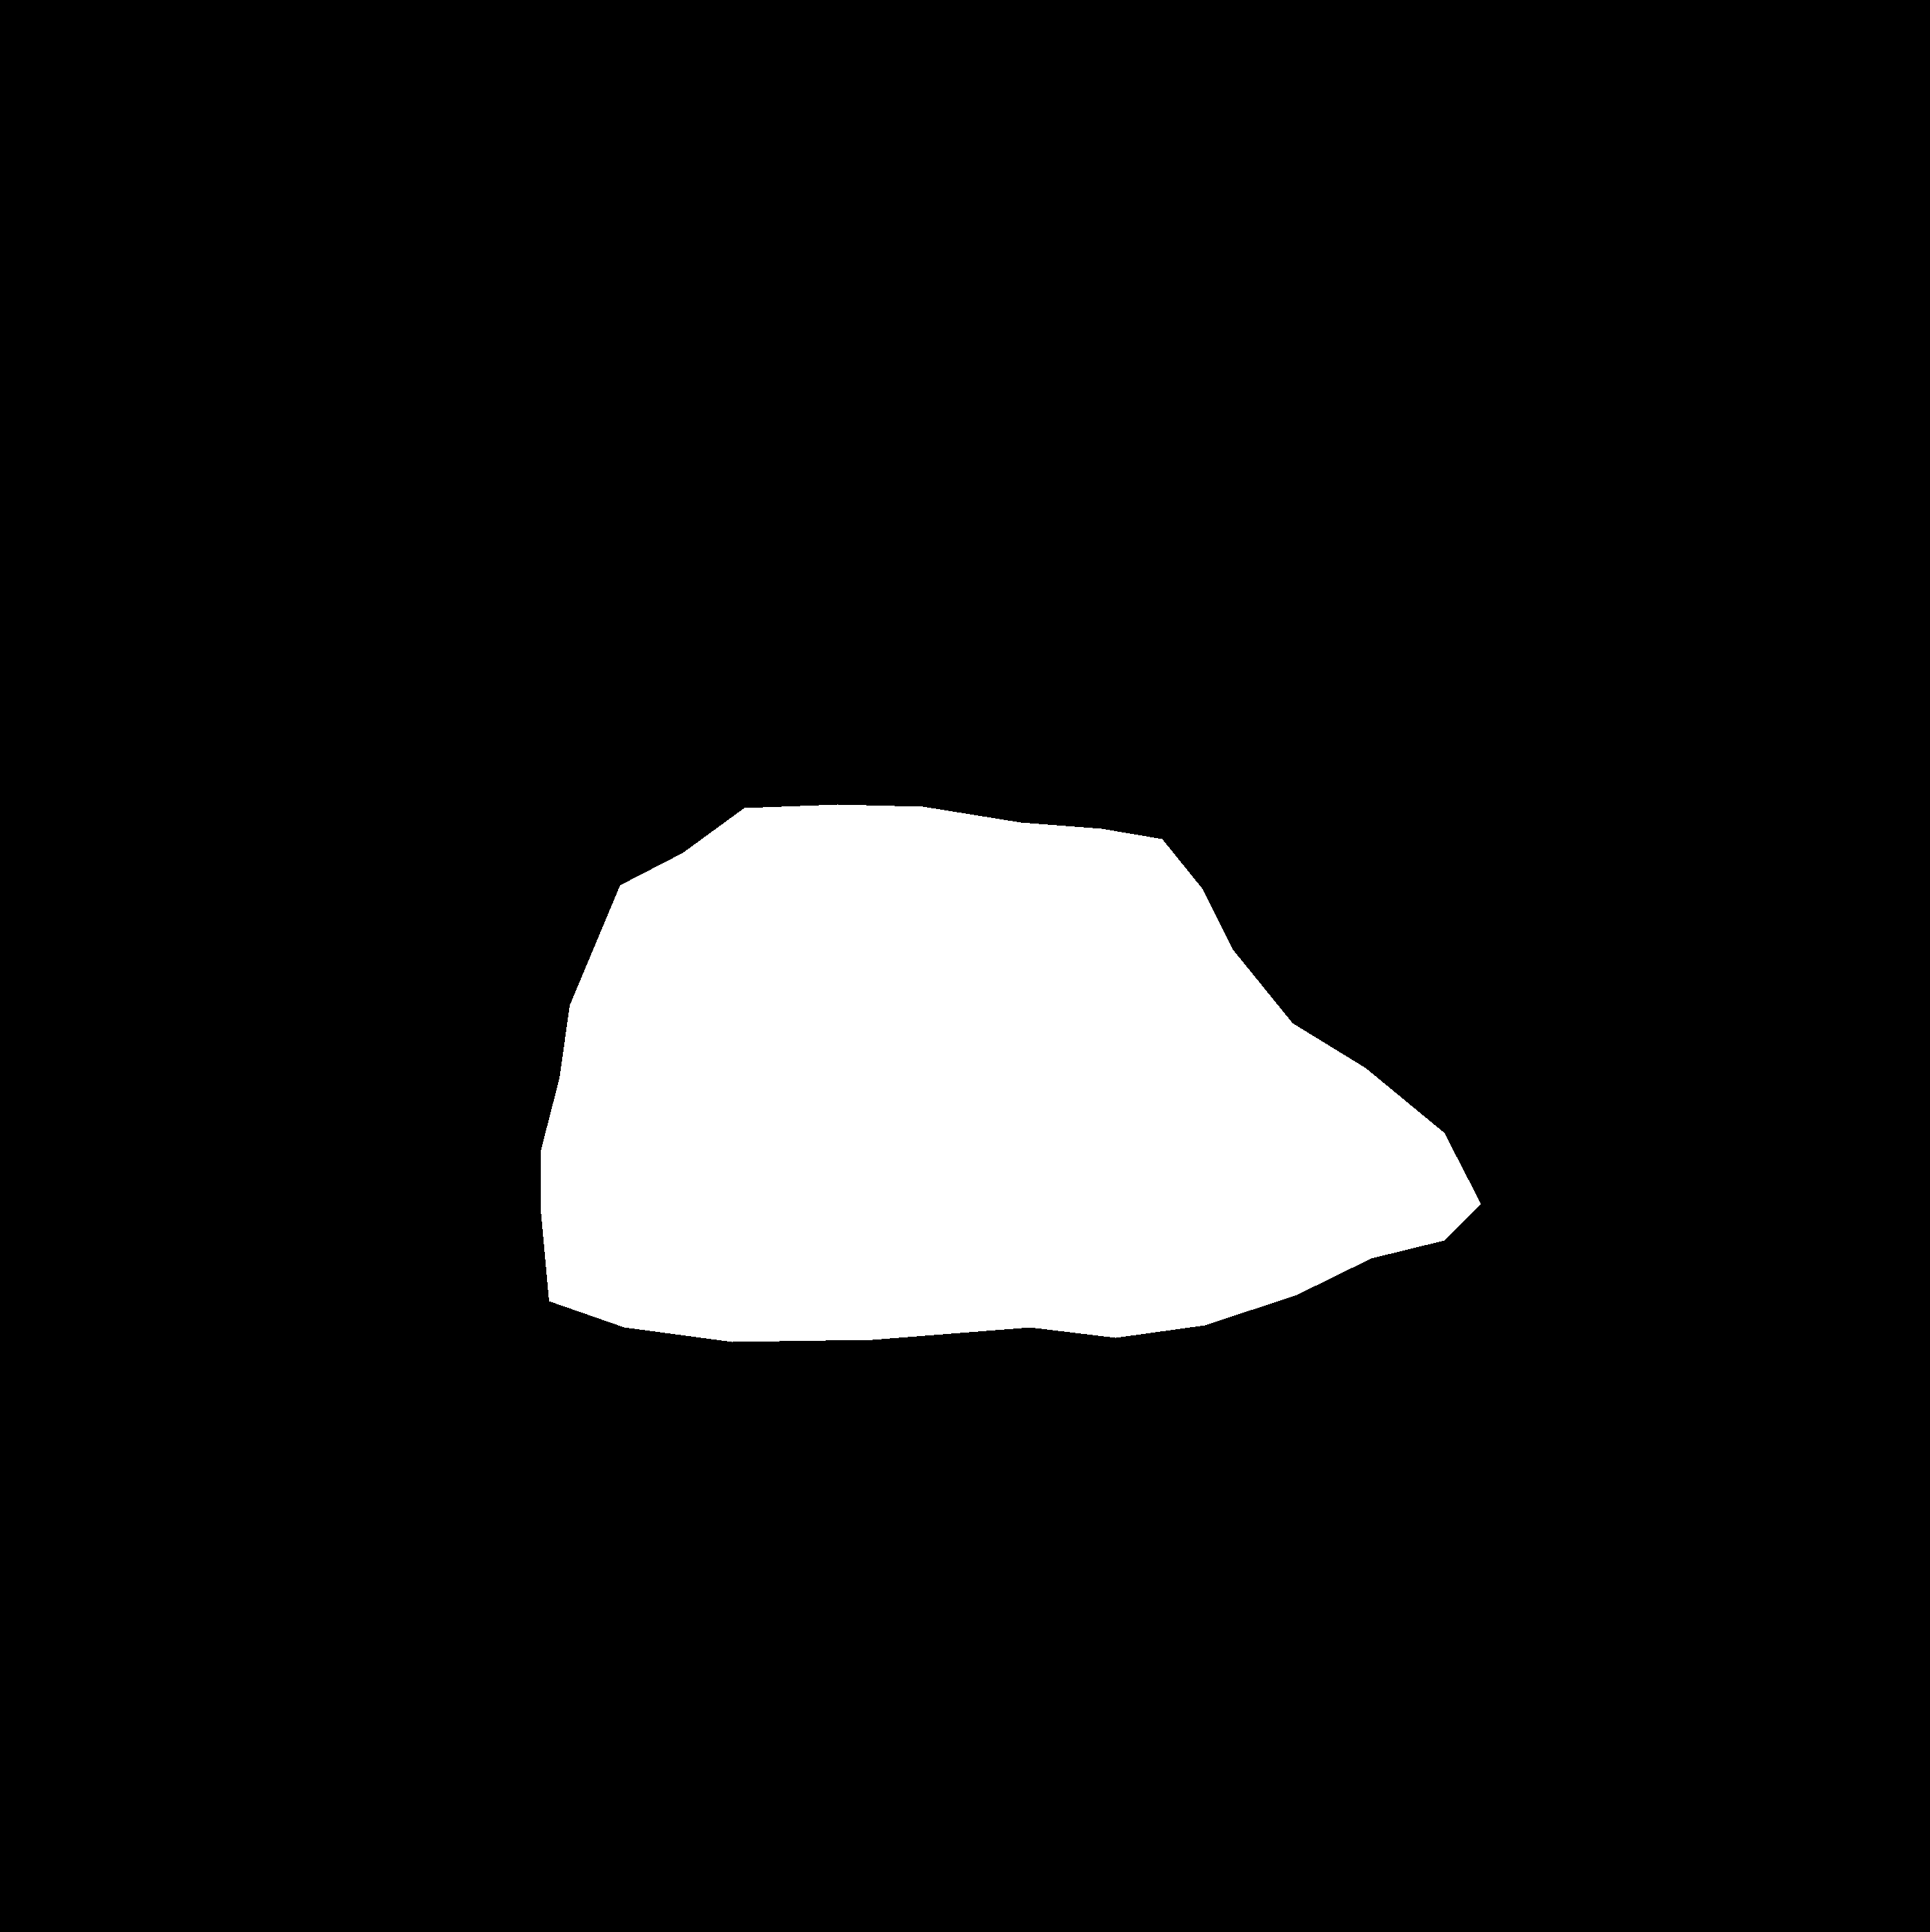heart: (541, 804, 1481, 1342)
left_lung: (138, 350, 767, 1423)
right_lung: (992, 355, 1619, 1204)
